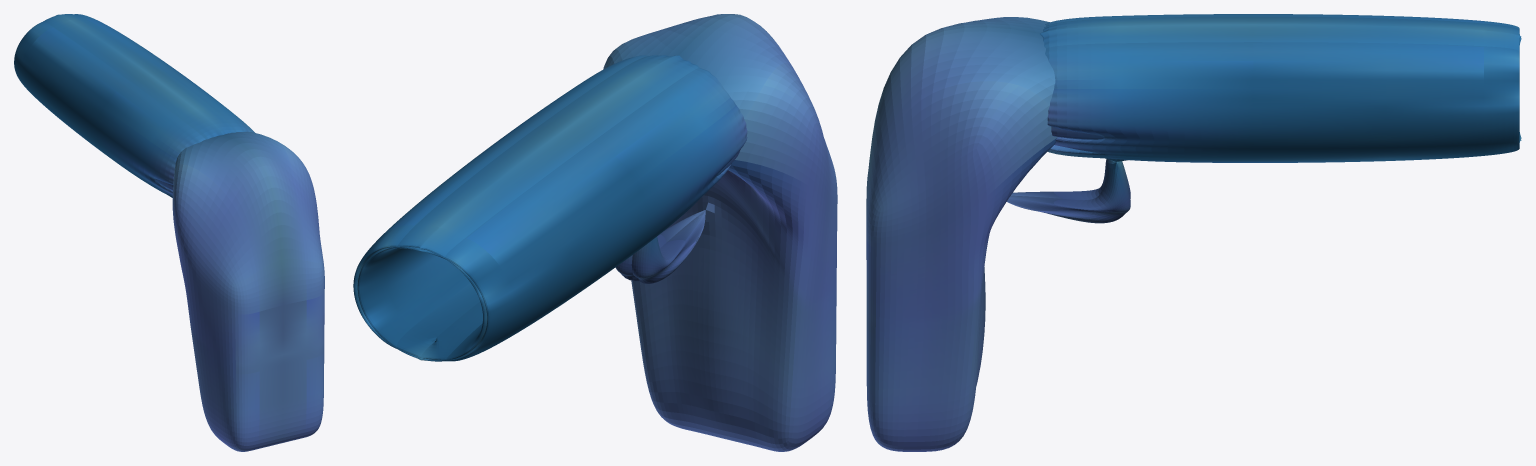
File: Manche pistolet2.fbx
3 views of the same model, side by side, from view 1: azimuth 30°, elevation 25°; view 2: azimuth 150°, elevation 25°; view 3: azimuth 270°, elevation 25° (orthographic). The views are drawn at different scales.
Parts seen in each view (by area): view 1: Cube; view 2: Cube; view 3: Cube.
Part boxes in pixels (left/top/right/bottom): Cube: left=14, top=14, right=324, bottom=451; Cube: left=353, top=14, right=837, bottom=451; Cube: left=866, top=14, right=1521, bottom=451.
Bounding box in the file's own units: 288 × 570 × 837.
